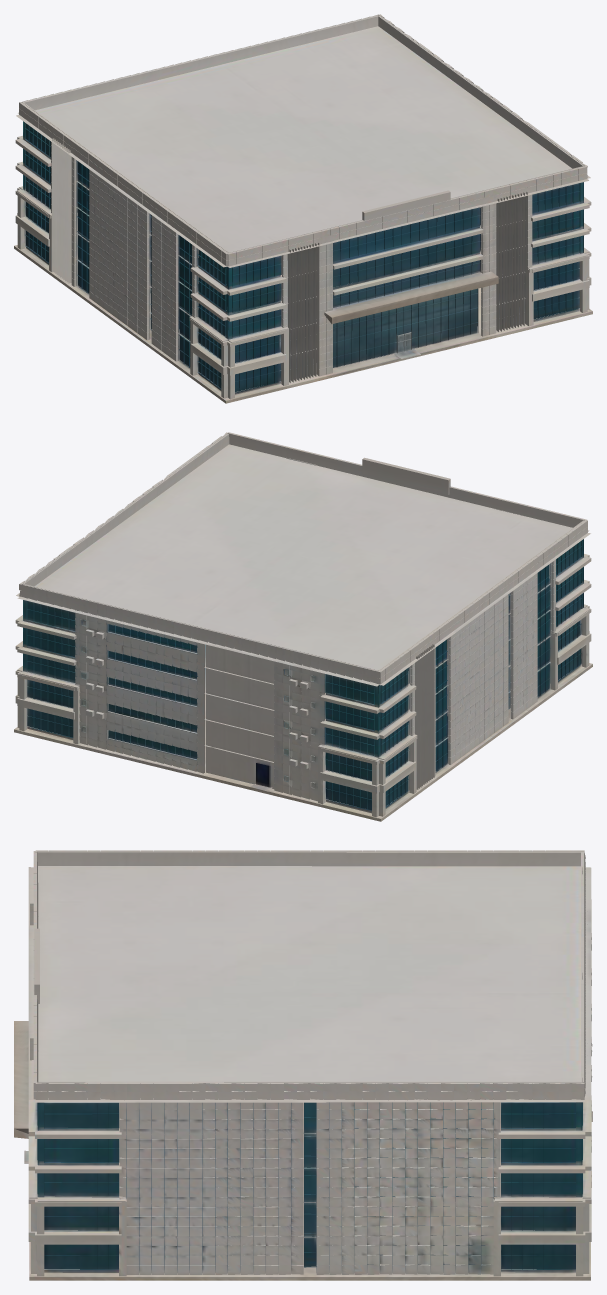
File: government_office.glb
3 renders of one model, top to bottom at view 1: azimuth 30°, elevation 25°; view 2: azimuth 150°, elevation 25°; view 3: azimuth 270°, elevation 25°, orthographic. The views are drawn at different scales.
Parts seen in each view (by area): view 1: building; view 2: building; view 3: building.
Part boxes in pixels (x1,y1,x2,y2): building: (14, 14, 592, 403); building: (14, 432, 592, 821); building: (14, 850, 592, 1280).
Size of the model in its own units: 1.85 by 0.7437 by 1.9.
Materials: 1 (1 with a texture image).
